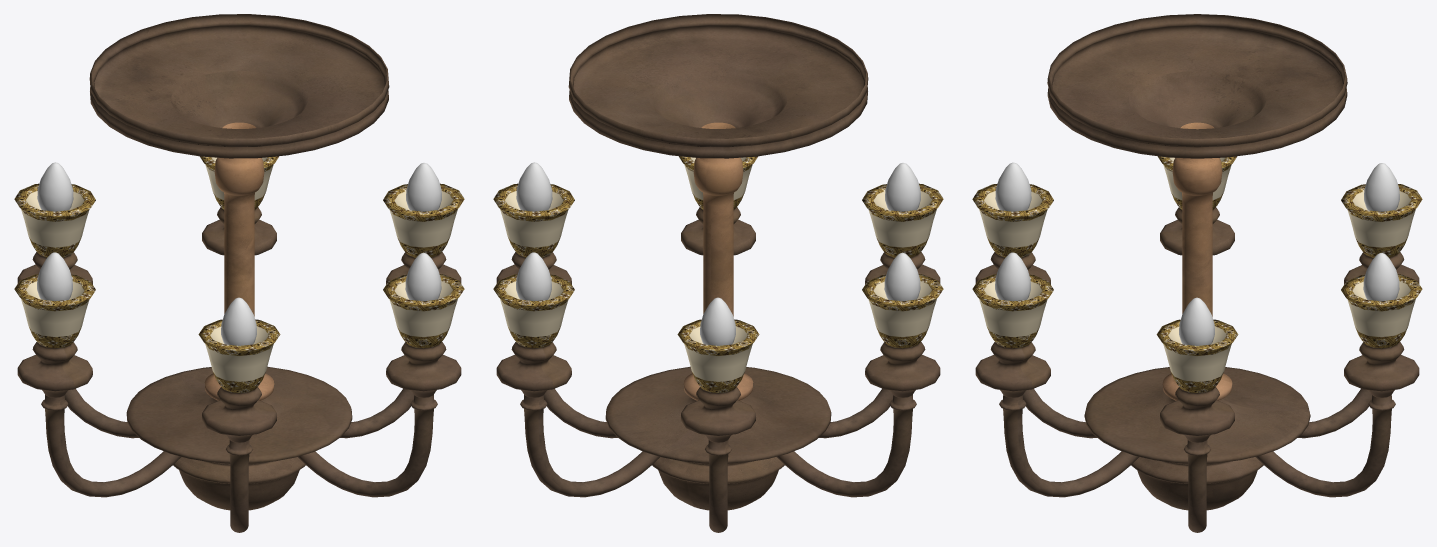
The model's file is antique_light.fbx.
3 renders of one model, left to right at view 1: azimuth 30°, elevation 25°; view 2: azimuth 150°, elevation 25°; view 3: azimuth 270°, elevation 25°, orthographic.
Visible parts, largest first — view 1: antique_light, antique_light.004, antique_light.005, antique_light.002, antique_light.001, antique_light.006; view 2: antique_light, antique_light.002, antique_light.003, antique_light.006, antique_light.005, antique_light.004; view 3: antique_light, antique_light.006, antique_light.001, antique_light.003, antique_light.004, antique_light.002.
Boxes of the visible parts, x1=… form: antique_light: x1=14, y1=14, x2=464, y2=532; antique_light.004: x1=37, y1=162, x2=73, y2=211; antique_light.005: x1=37, y1=252, x2=72, y2=301; antique_light.002: x1=406, y1=163, x2=441, y2=211; antique_light.001: x1=405, y1=252, x2=441, y2=301; antique_light.006: x1=221, y1=297, x2=256, y2=345; antique_light: x1=493, y1=14, x2=943, y2=532; antique_light.002: x1=516, y1=162, x2=552, y2=211; antique_light.003: x1=516, y1=252, x2=551, y2=301; antique_light.006: x1=885, y1=163, x2=920, y2=211; antique_light.005: x1=884, y1=252, x2=920, y2=301; antique_light.004: x1=700, y1=297, x2=735, y2=345; antique_light: x1=972, y1=14, x2=1422, y2=532; antique_light.006: x1=995, y1=162, x2=1031, y2=211; antique_light.001: x1=995, y1=252, x2=1030, y2=301; antique_light.003: x1=1363, y1=253, x2=1399, y2=301; antique_light.004: x1=1364, y1=163, x2=1399, y2=211; antique_light.002: x1=1179, y1=297, x2=1214, y2=345.
Size of the model in its own units: 81.85 by 77.21 by 72.7.
